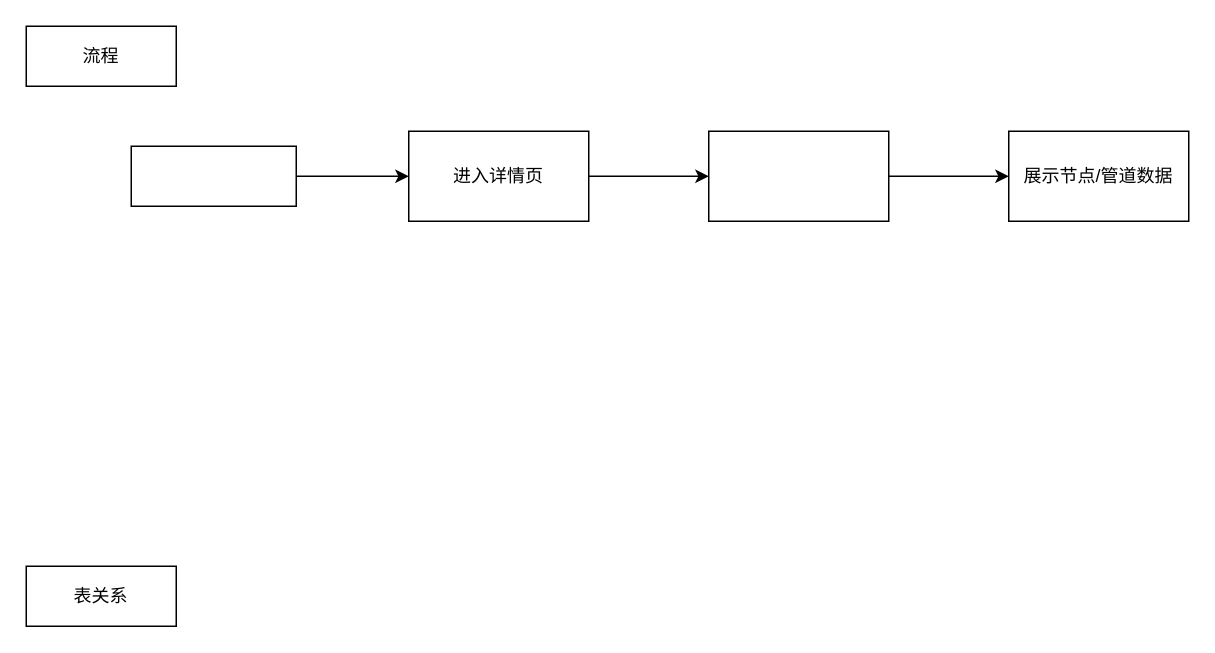
Some shapes in this 1215 by 653 pixel diagram are drawn without their labels. The shapes that lost their labels are listed below. From the top down, each one's centre as x and y in pixels, then its label:
At [213,175]: "瞬态方案结果列表".
At [798,175]: "点击节点/管道".
